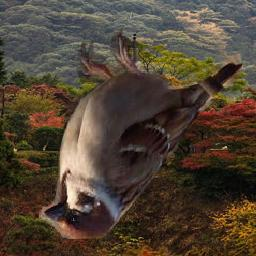Sparrow: (40, 29, 243, 242)
